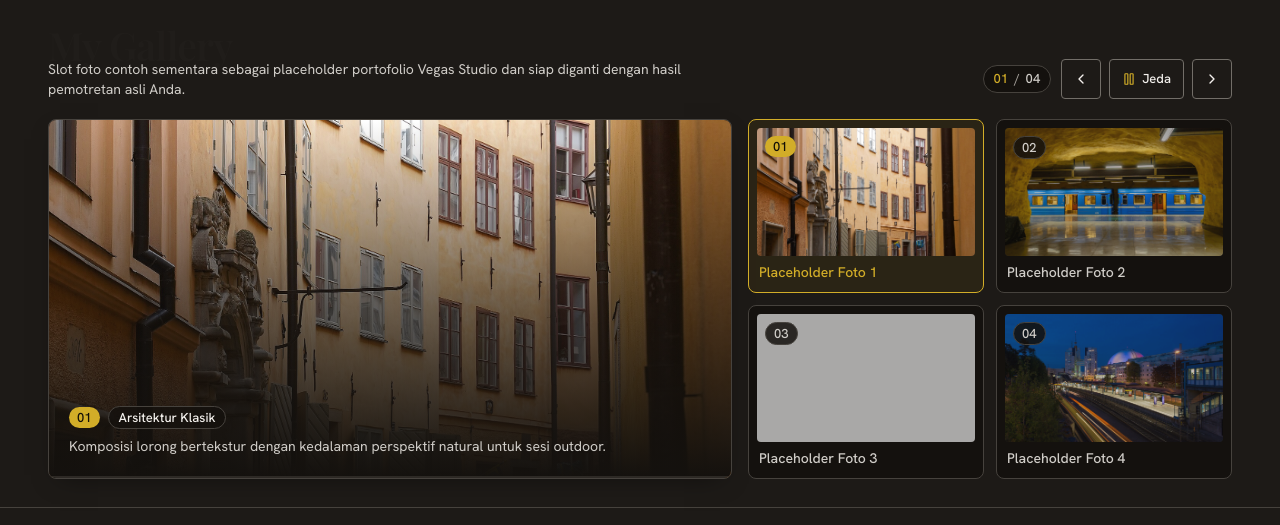
Test: GallerySection showcase & auto-slide › mendukung tombol Berikutnya, Sebelumnya, dan klik langsung kartu thumbnail
The width and height of the screenshot is (1280, 525).
Click the button named "Foto galeri berikutnya": coordinates (1212, 79) x1=1192 y1=59 x2=1232 y2=99
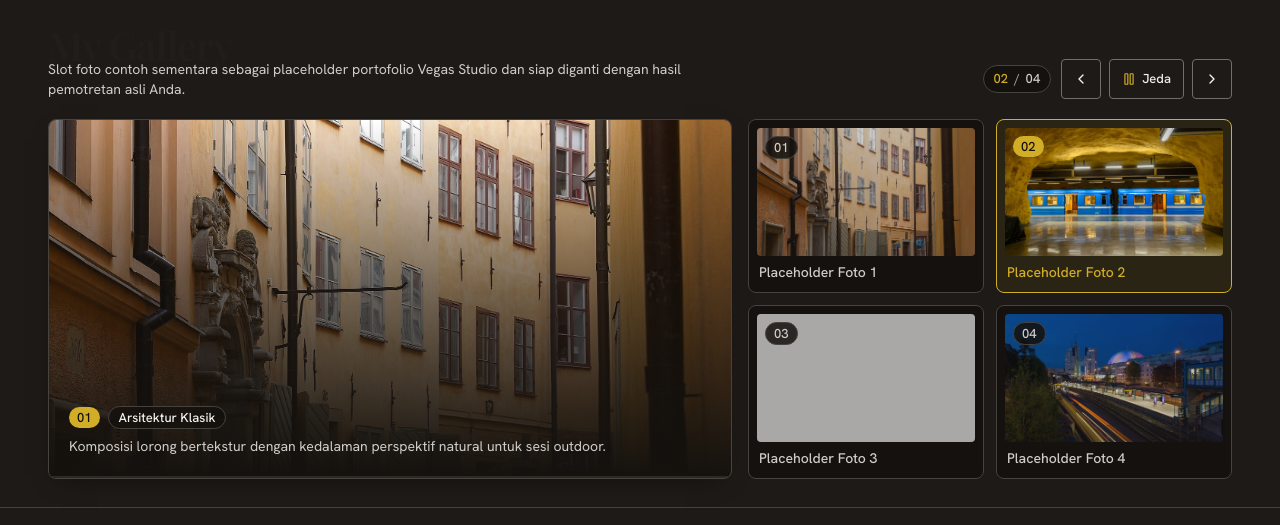
Click the button named "Foto galeri sebelumnya": coordinates (1081, 79) x1=1061 y1=59 x2=1101 y2=99
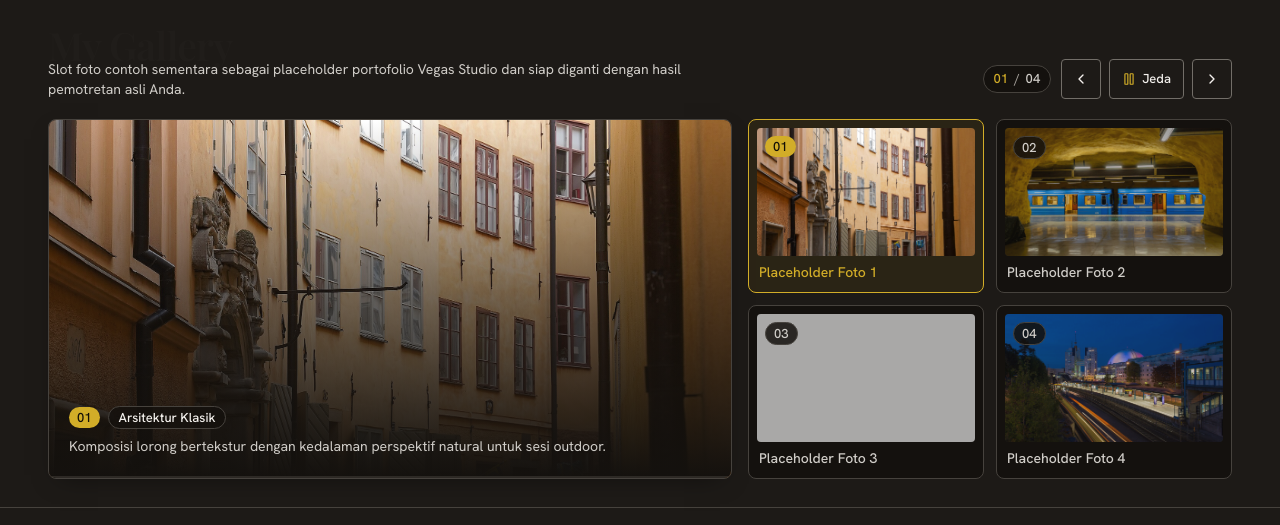
expect the text "Arsitektur Klasik" is shown: met, box x1=108 y1=406 x2=226 y2=429
Click the button "04 Placeholder Foto 4": coordinates (1114, 392) x1=996 y1=305 x2=1232 y2=479
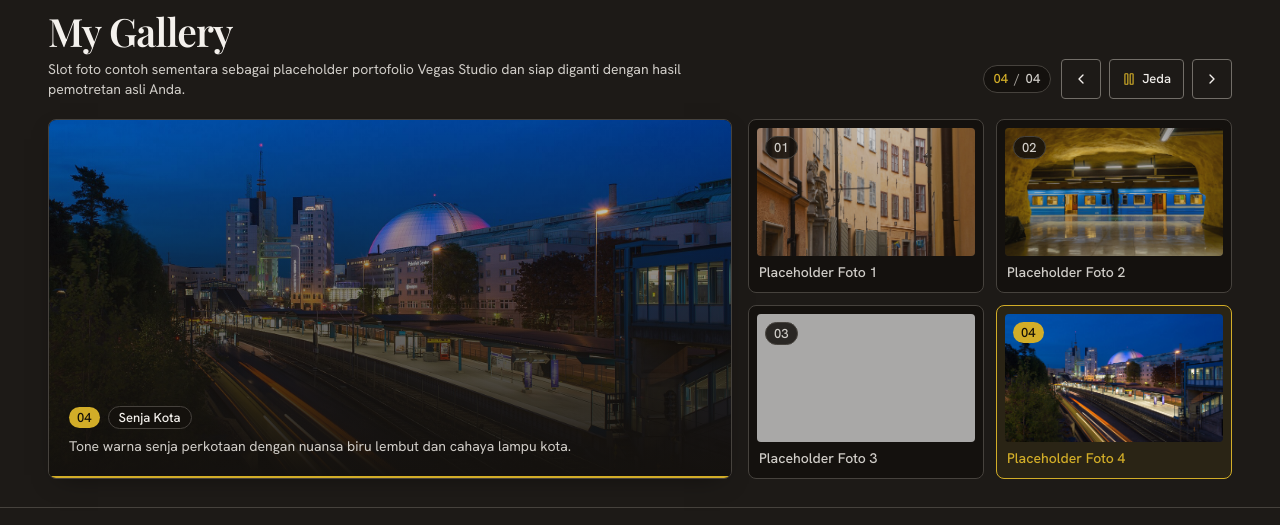
expect the text "Senja Kota" is shown: met, box x1=108 y1=406 x2=192 y2=429
